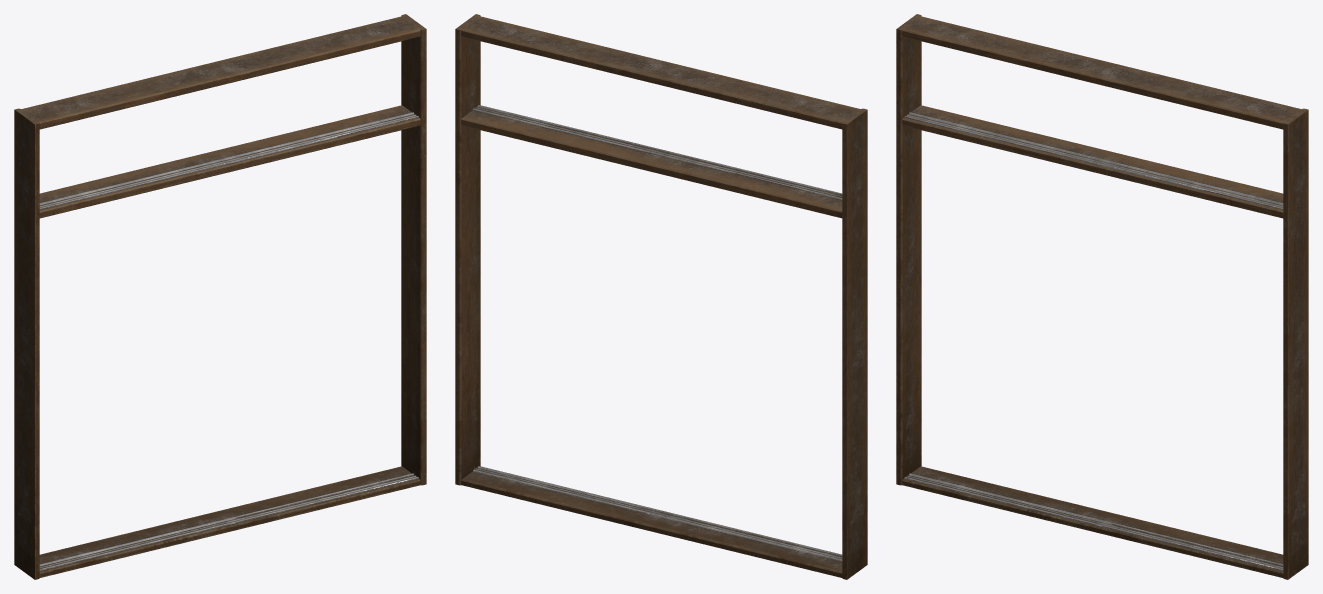
File: DoorFrame_A.fbx
3 views of the same model, side by side, from view 1: azimuth 30°, elevation 25°; view 2: azimuth 150°, elevation 25°; view 3: azimuth 330°, elevation 25° (orthographic).
Parts seen in each view (by area): view 1: DoorFrame_A; view 2: DoorFrame_A; view 3: DoorFrame_A.
Part boxes in pixels (x1,y1,x2,y2): DoorFrame_A: (14, 14, 426, 579); DoorFrame_A: (455, 14, 867, 579); DoorFrame_A: (896, 14, 1308, 579).
Bounding box in the file's own units: 225 × 250 × 20.37.
1 material, 1 textured.
